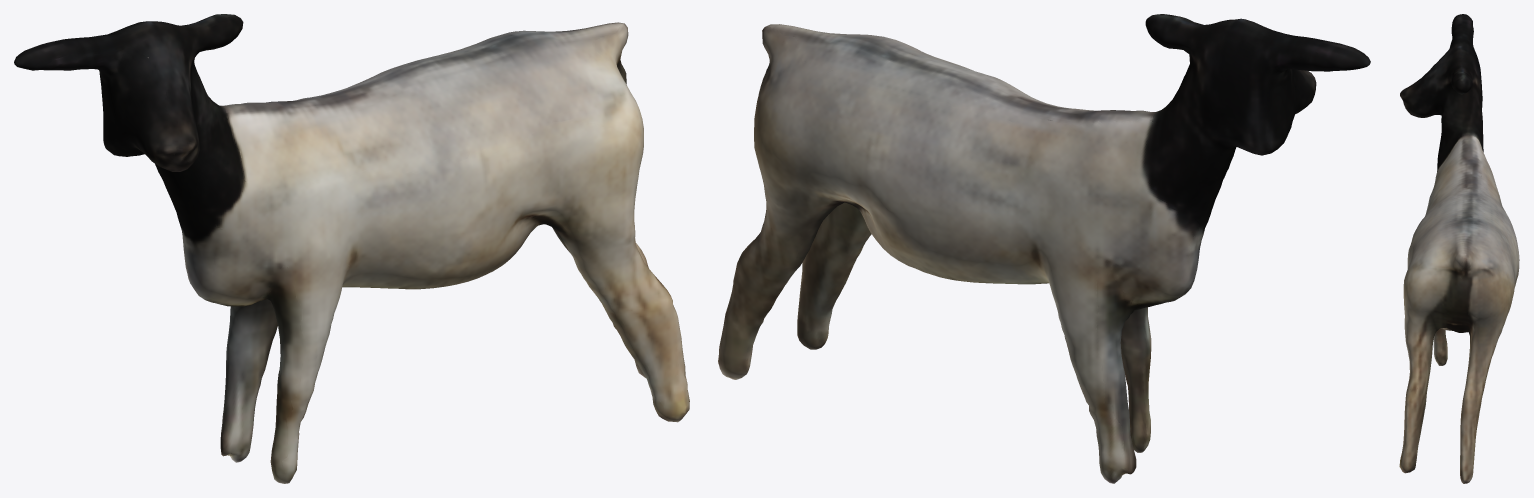
Rendered from joven.glb.
The picture shows the model from 3 angles, left to right: view 1: azimuth 30°, elevation 25°; view 2: azimuth 150°, elevation 25°; view 3: azimuth 270°, elevation 25°; orthographic projection. The views are drawn at different scales.
Parts seen in each view (by area): view 1: mesh; view 2: mesh; view 3: mesh.
Boxes of the visible parts, x1,y1,x2,y2 form: mesh: (14, 14, 689, 483); mesh: (718, 14, 1370, 483); mesh: (1399, 14, 1519, 483).
Size of the model in its own units: 1.66 by 1.17 by 0.4407.
Materials: 1 (1 with a texture image).
